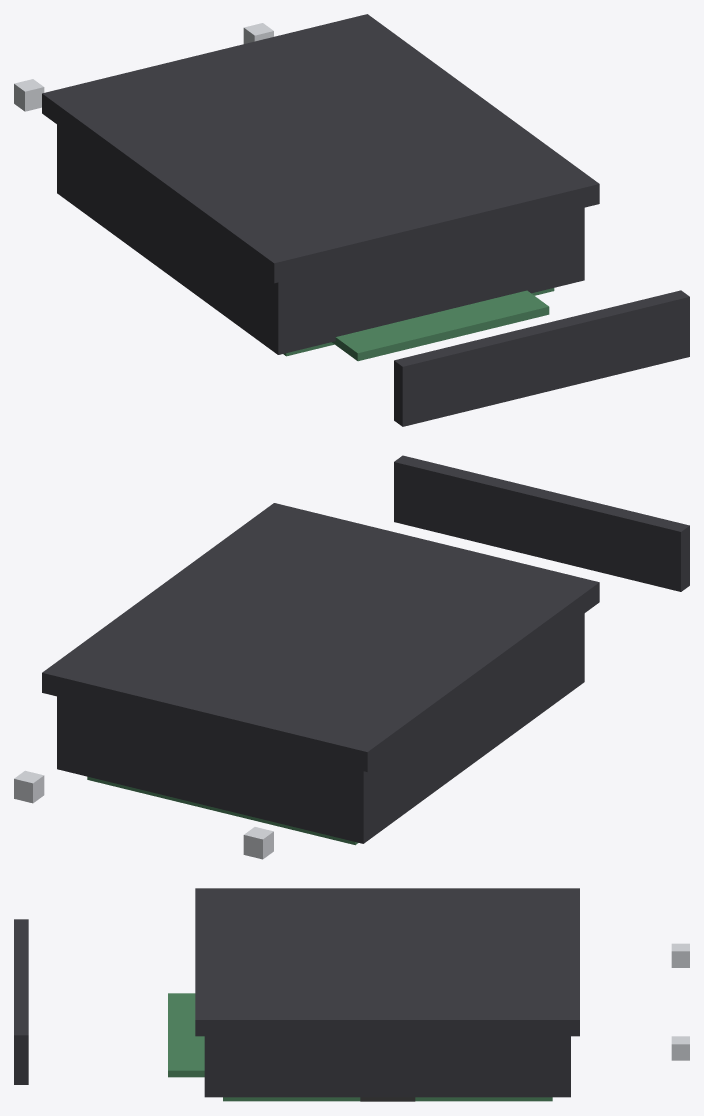
Rendered from disc_drive.gltf.
3 renders of one model, top to bottom at view 1: azimuth 30°, elevation 25°; view 2: azimuth 150°, elevation 25°; view 3: azimuth 270°, elevation 25°, orthographic. The views are drawn at different scales.
Visible parts, largest first — view 1: disc_drive; view 2: disc_drive; view 3: disc_drive.
Part boxes in pixels (x1,y1,x2,y2): disc_drive: (14,14,689,426); disc_drive: (14,455,689,859); disc_drive: (14,888,689,1101).
Size of the model in its own units: 0.085 by 0.028 by 0.1845.
